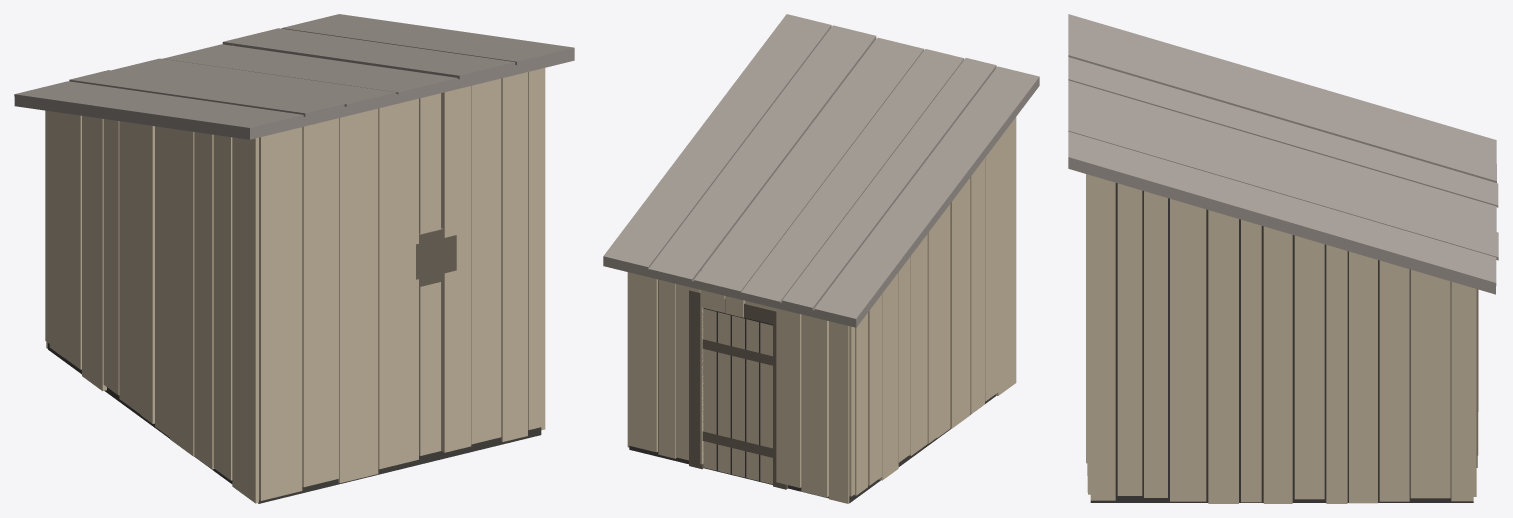
File: recon_1835_blk_randolph_clark_a4_07__inferred_1835.glb
3 views of the same model, side by side, from view 1: azimuth 30°, elevation 25°; view 2: azimuth 150°, elevation 25°; view 3: azimuth 270°, elevation 25° (orthographic). The views are drawn at different scales.
Visible parts, largest first — view 1: recon_1835_blk_randolph_clark_a4_07__inferred_1835; view 2: recon_1835_blk_randolph_clark_a4_07__inferred_1835; view 3: recon_1835_blk_randolph_clark_a4_07__inferred_1835.
Boxes of the visible parts, box(x1,y1,x2,y2) form: recon_1835_blk_randolph_clark_a4_07__inferred_1835: box(14, 14, 574, 503); recon_1835_blk_randolph_clark_a4_07__inferred_1835: box(603, 14, 1039, 503); recon_1835_blk_randolph_clark_a4_07__inferred_1835: box(1068, 14, 1498, 503).
Size of the model in its own units: 3.07 by 3.54 by 3.88.
